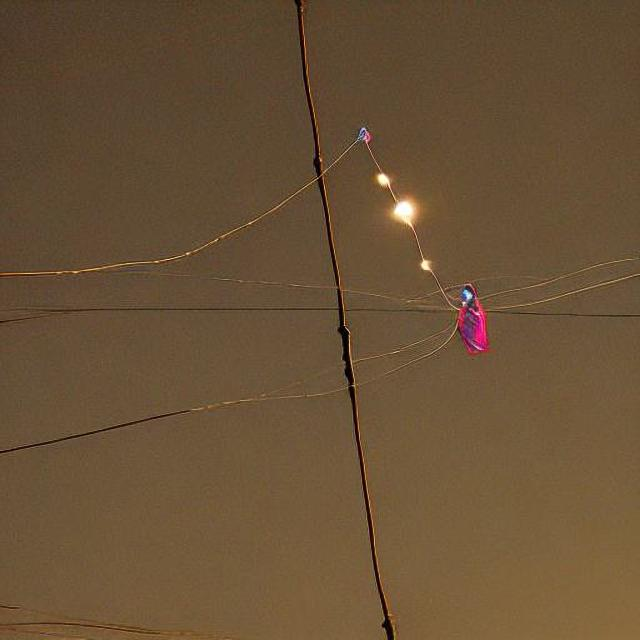plastic bag: (459, 289, 502, 363)
